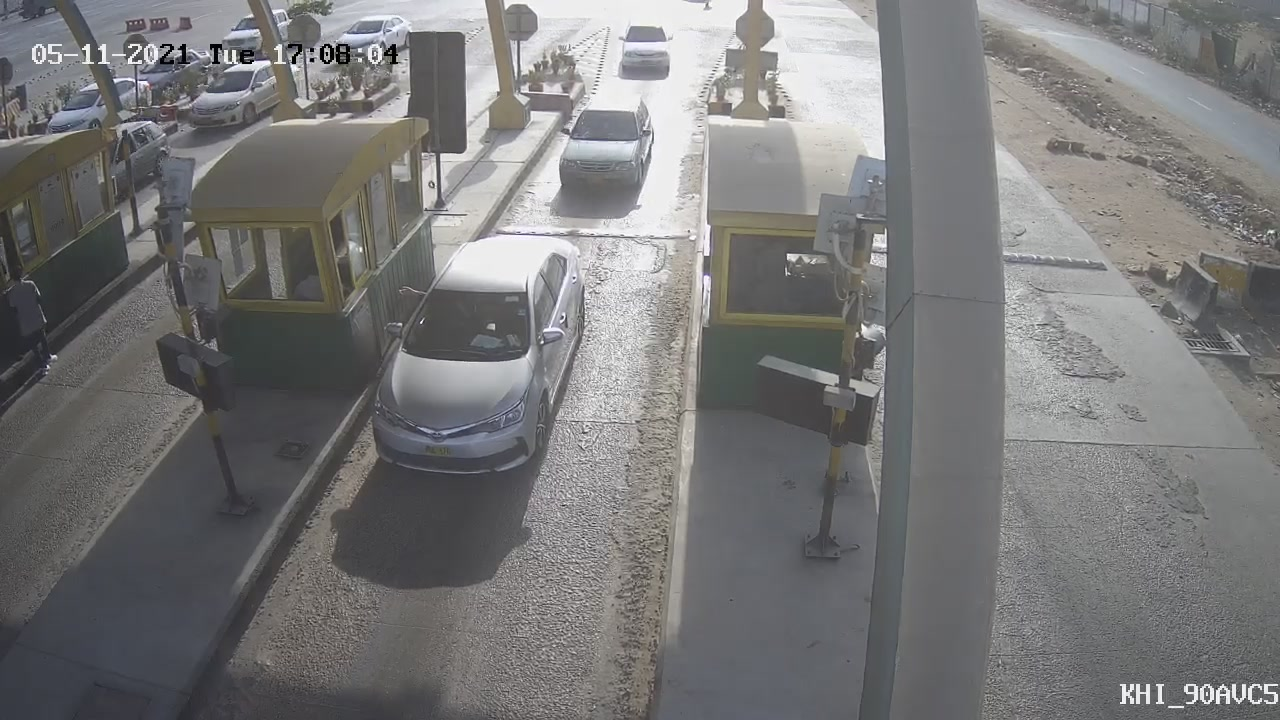F1: (356, 213, 609, 495), (540, 79, 676, 209)
